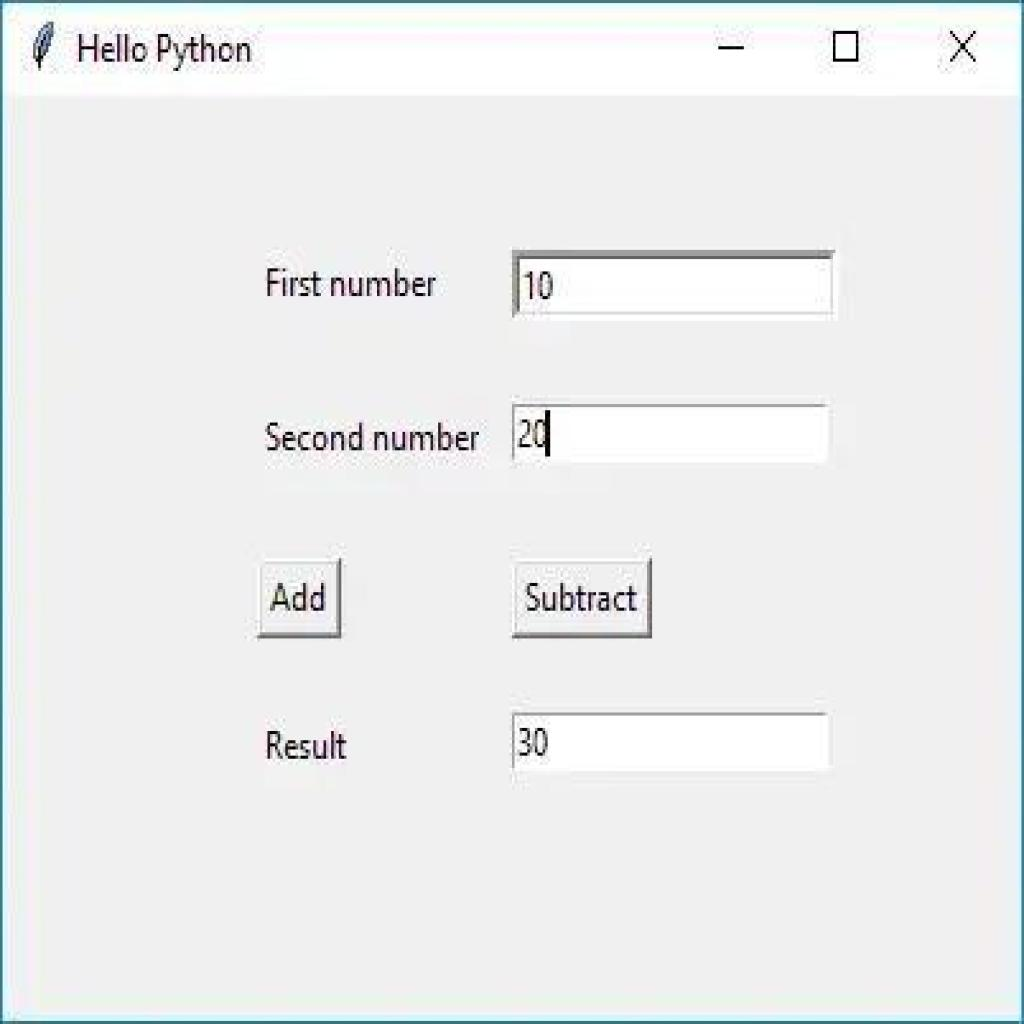button: (515, 555, 657, 645), (257, 558, 344, 638)
icon: (942, 25, 986, 71), (718, 31, 749, 65)
input: (512, 404, 833, 466), (517, 253, 836, 315), (512, 709, 828, 768)
label: (252, 250, 441, 311), (257, 413, 484, 460), (71, 28, 255, 74), (260, 709, 354, 771)
